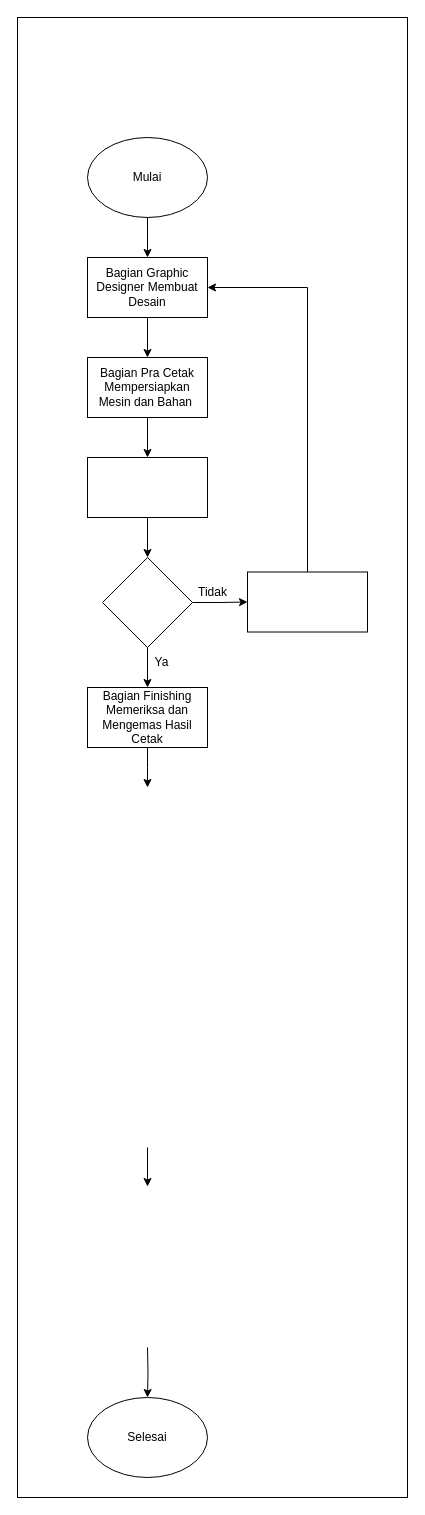
The diagram is 425 pixels wide and 1515 high, and some of its shapes have lost their labels. The box of each missing label's shape, as (x1, y1, x2, y2) in pixels:
Bagian Cetak Melakukan Proses Cetak: (86, 456, 208, 518)
Cetak Sesuai?: (102, 556, 192, 648)
Kembali ke Bagian Graphic Designer untuk Perbaikan: (246, 571, 368, 632)
